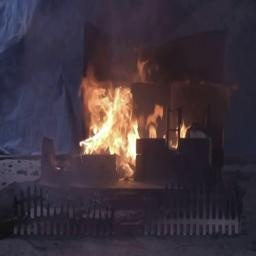fire: (77, 44, 158, 166)
